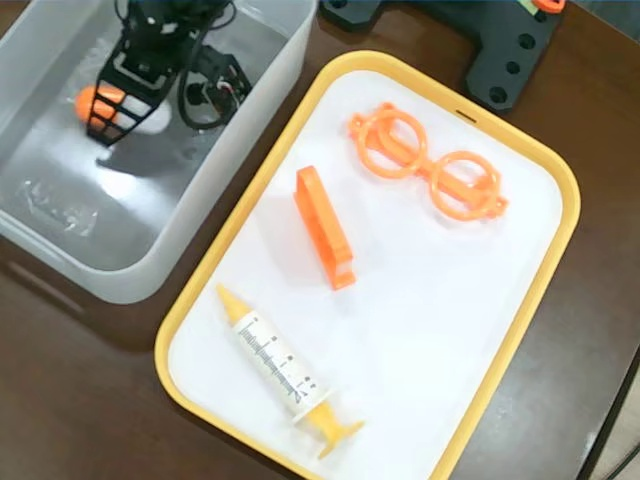pill: (77, 83, 172, 133)
syringe: (215, 284, 370, 464)
